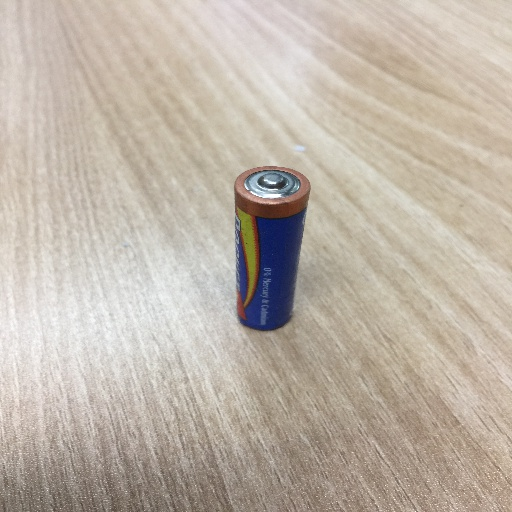Battery_0: (225, 160, 316, 343)
